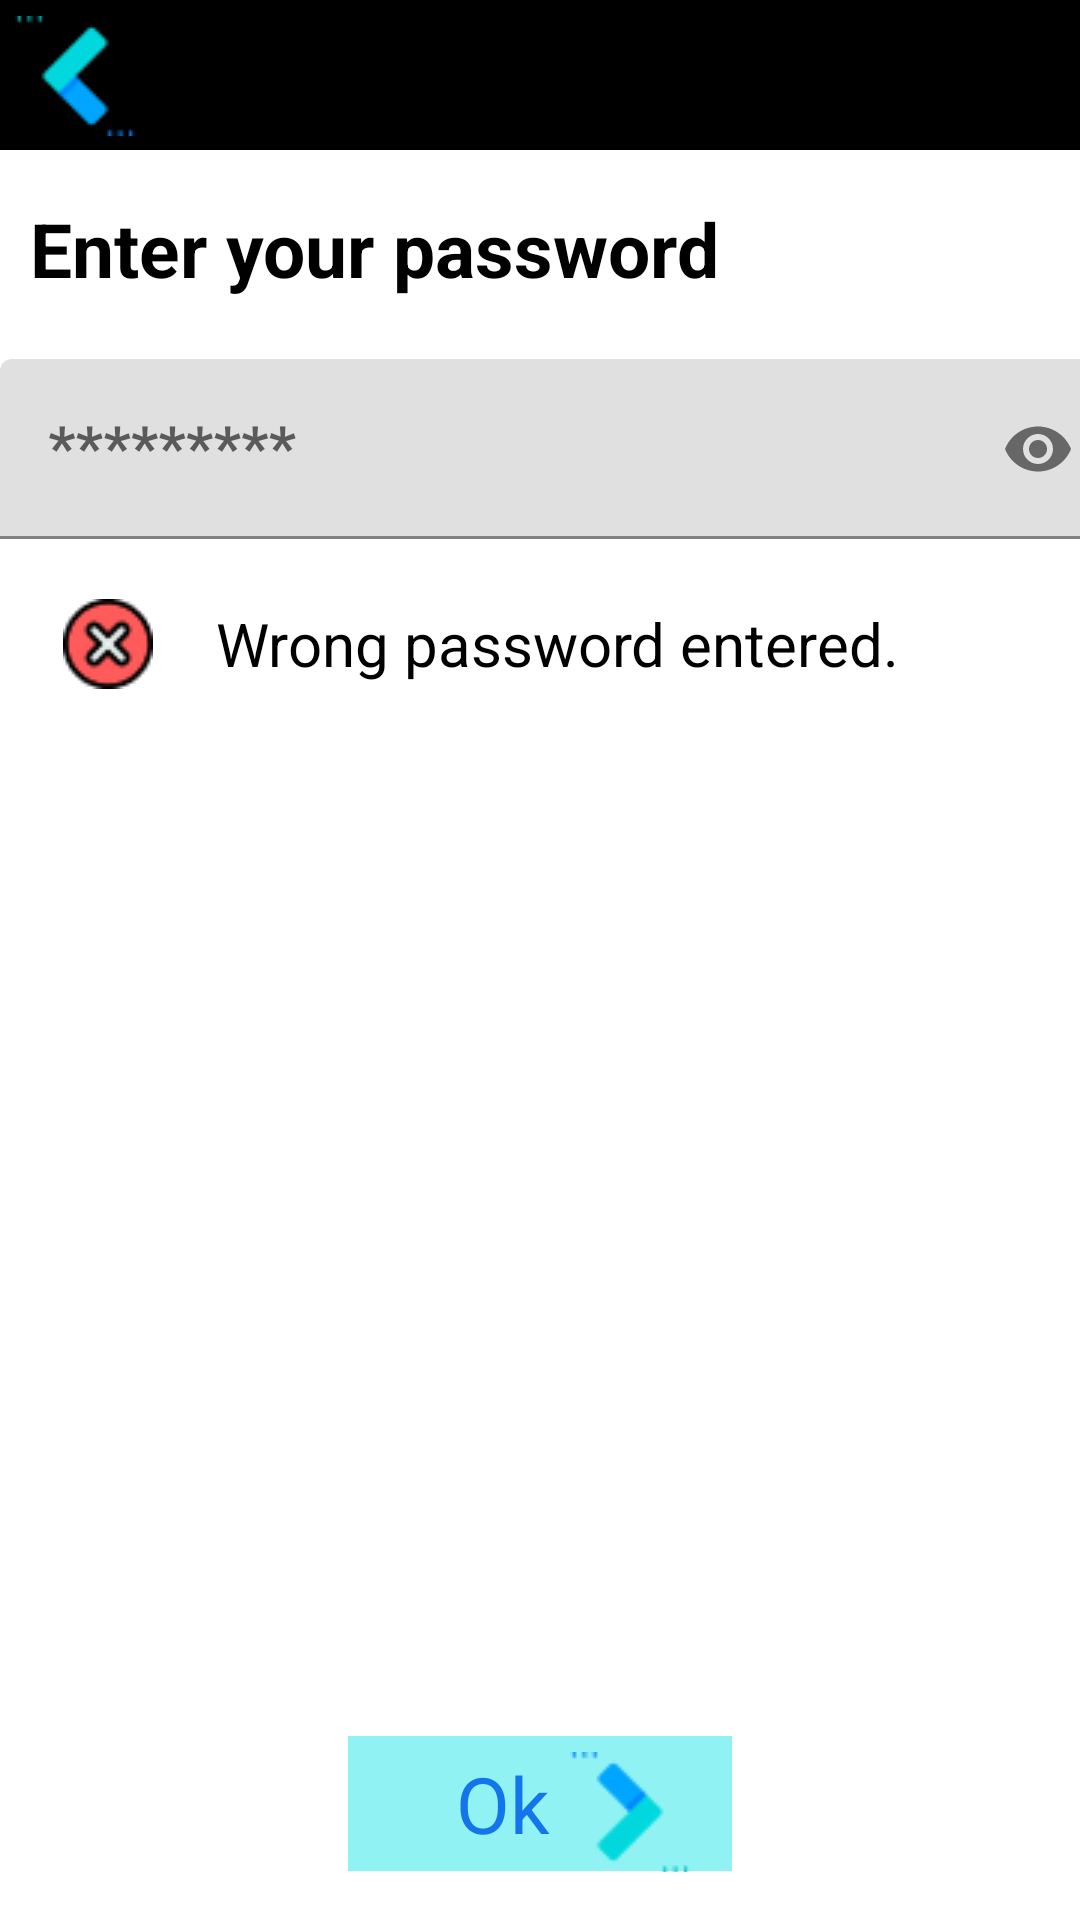

Icon click points for this 1080px×1920px phone screenshot, format (x,y):
incorrect: (108,644)
